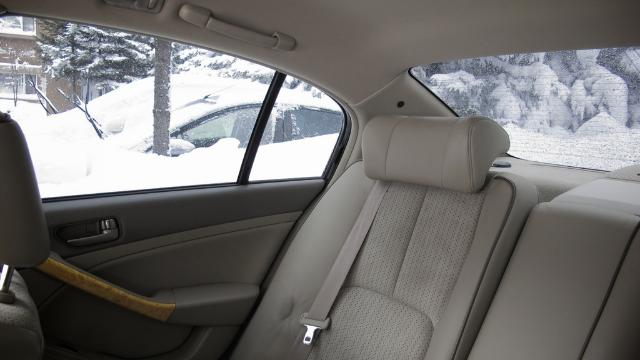Seatbelt: (288, 180, 394, 358), (290, 181, 392, 359)
